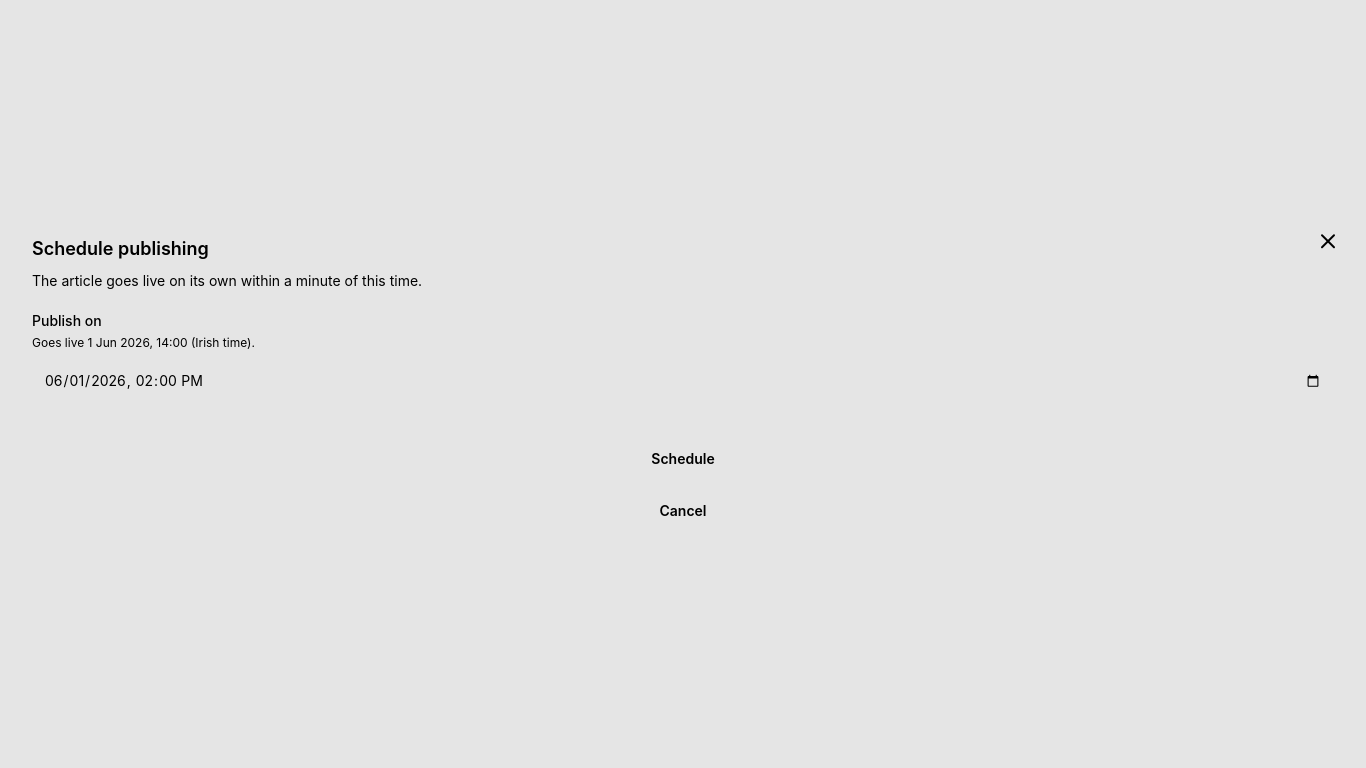
Test: schedule dialog (master 5.3: Europe/Dublin) › refuses a time in the past
The width and height of the screenshot is (1366, 768).
Replace the text in the field labelled "Publish on" with "2026-05-31T10:00" at (683, 381), box [32,361,1334,401]
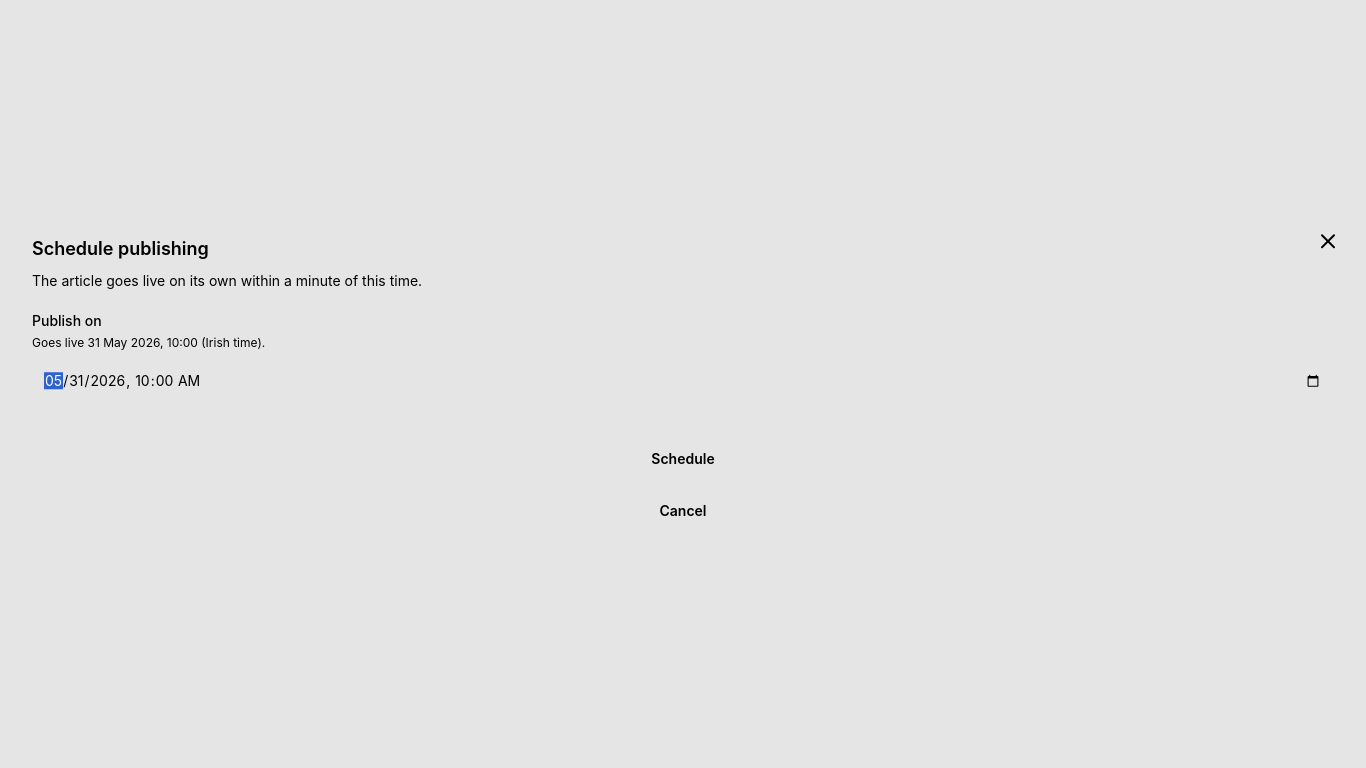
Click the button "Schedule" at (683, 459), box [32,437,1334,481]
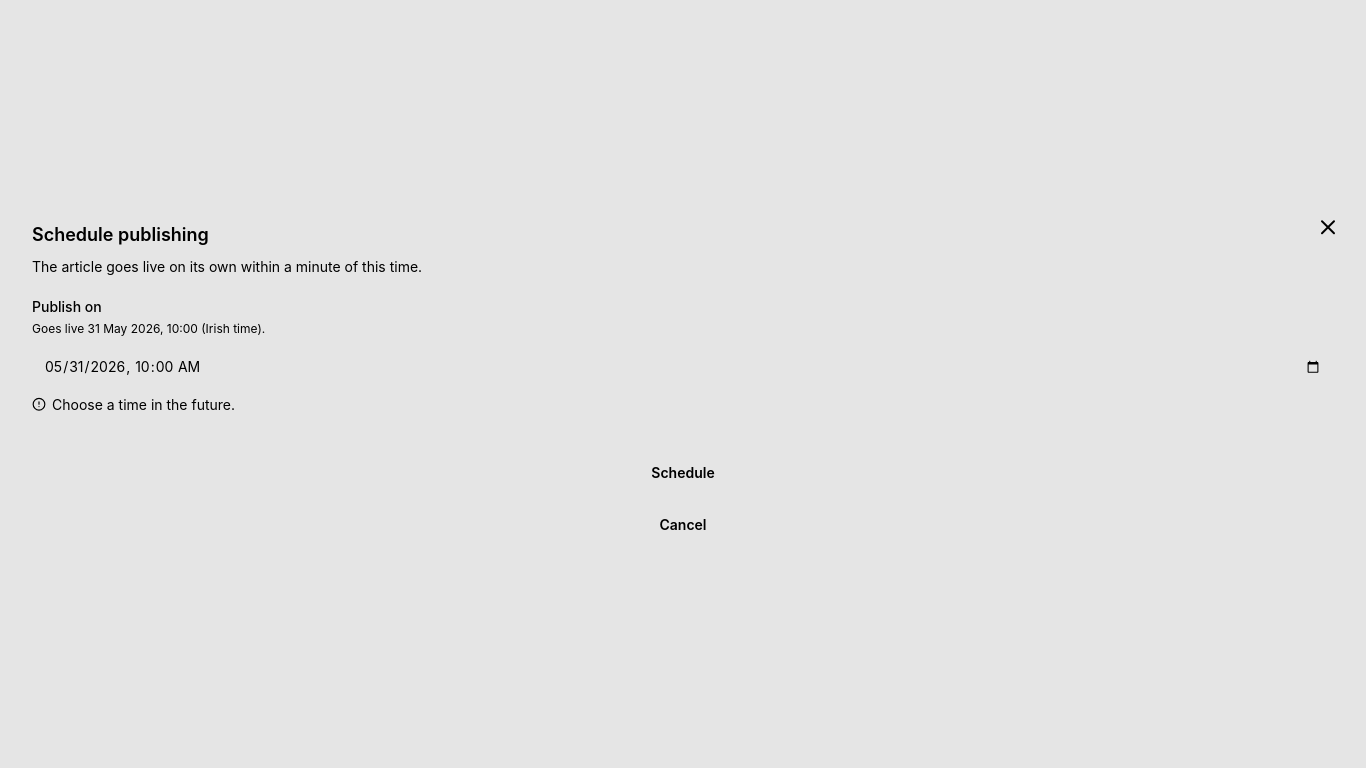
Now the message reads "Choose a time in the future.", box [52,396,235,413]
